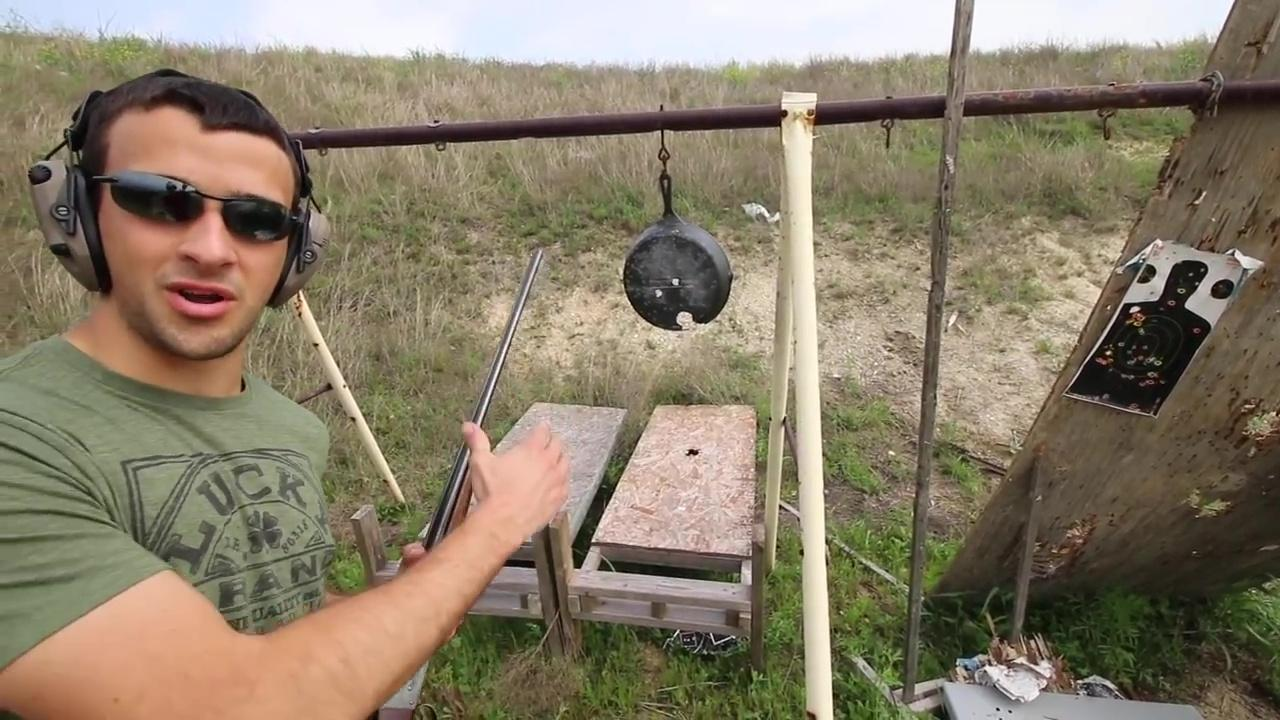Gun: (329, 239, 551, 720)
